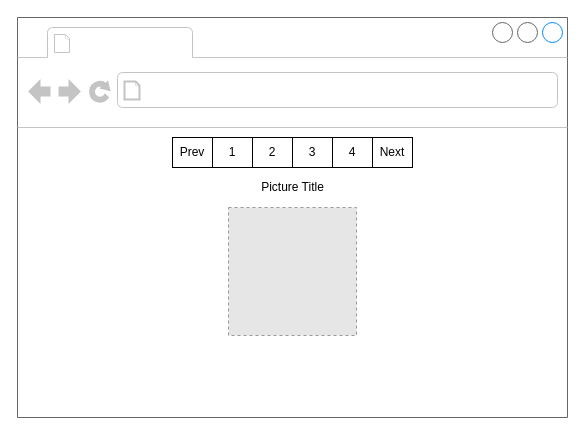
Image size: 585x435. Some labels were removed from this diagram. Grey dashed boxes stand in for pictures. Here are the shapes that lost their labels. From the top down, the box of each, then its label:
(76, 28, 188, 56): Page 1
(146, 76, 398, 104): https://www.draw.io
